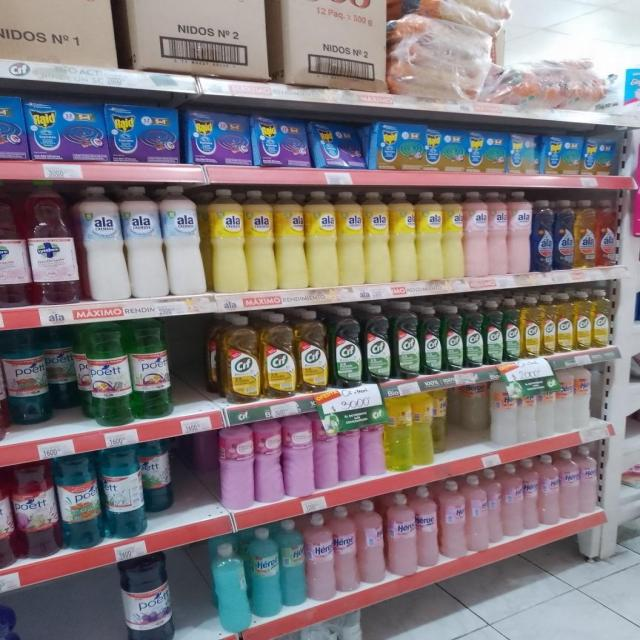ala_conc_amarillo: (575, 199, 595, 269)
ala_conc_azul: (532, 198, 553, 272), (554, 199, 574, 270)
ala_conc_rojo: (596, 199, 618, 267)
ala_crem_amarillo: (208, 188, 245, 294), (306, 191, 337, 287), (276, 190, 305, 290), (246, 190, 274, 292), (364, 191, 390, 285), (338, 191, 363, 286), (391, 191, 416, 282), (417, 191, 442, 281), (443, 191, 464, 279)
ala_crem_blanco: (80, 185, 124, 302), (164, 185, 205, 298), (124, 185, 164, 300)
ala_crem_rosado: (464, 190, 488, 278), (508, 190, 531, 274), (489, 191, 507, 276)
cif_conc_bot_amarilla: (219, 314, 260, 404), (261, 312, 295, 398), (296, 309, 328, 393), (521, 295, 540, 359), (592, 288, 611, 348), (574, 291, 592, 351), (557, 292, 573, 354), (541, 293, 556, 356)
cif_conc_botella_verde: (330, 307, 362, 388), (363, 304, 390, 384), (392, 302, 419, 380), (420, 305, 441, 375), (442, 304, 462, 372), (464, 302, 483, 368), (484, 300, 503, 365), (504, 298, 520, 362)
heroe: (250, 526, 280, 618), (306, 512, 334, 602), (387, 492, 416, 576), (281, 519, 305, 608), (440, 479, 466, 560), (334, 505, 357, 594), (490, 377, 518, 447), (417, 486, 439, 568), (467, 473, 488, 552), (540, 454, 560, 526), (463, 380, 488, 436), (560, 449, 579, 520), (580, 445, 599, 516), (556, 369, 574, 434), (574, 365, 591, 429)
magistral_con_azul: (0, 603, 21, 640)
